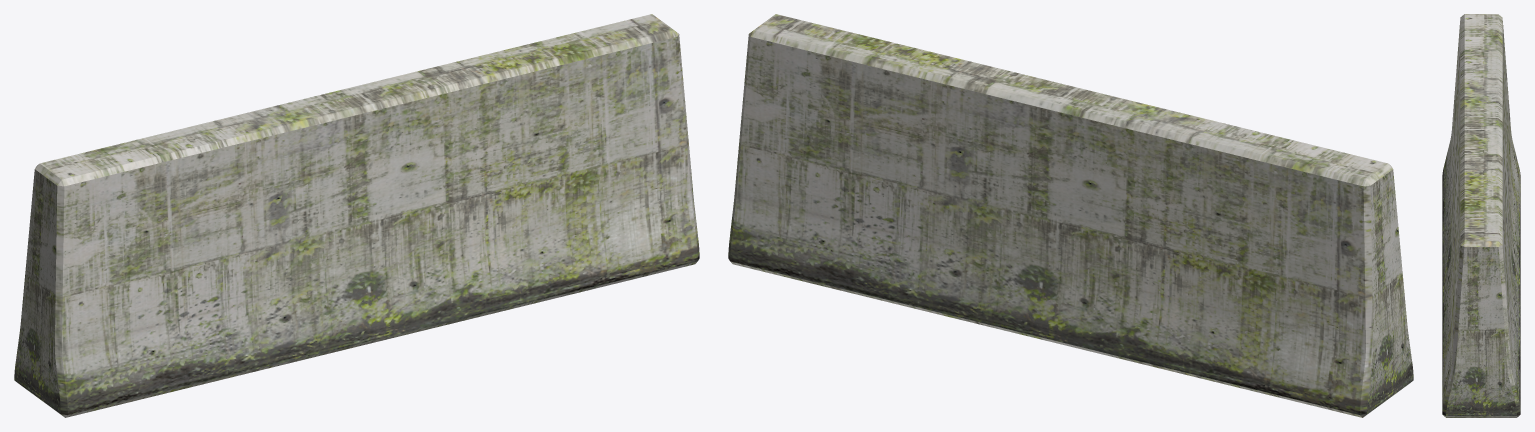
Rendered from CIV_Conc_barrier_01.fbx.
3 renders of one model, left to right at view 1: azimuth 30°, elevation 25°; view 2: azimuth 150°, elevation 25°; view 3: azimuth 270°, elevation 25°, orthographic. The views are drawn at different scales.
Parts seen in each view (by area): view 1: CIV_Conc_barrier_01; view 2: CIV_Conc_barrier_01; view 3: CIV_Conc_barrier_01.
Part boxes in pixels (x1=…): CIV_Conc_barrier_01: x1=14, y1=14, x2=699, y2=417; CIV_Conc_barrier_01: x1=728, y1=14, x2=1413, y2=417; CIV_Conc_barrier_01: x1=1442, y1=14, x2=1520, y2=417.
Bounding box in the file's own units: 400 × 136 × 56.
